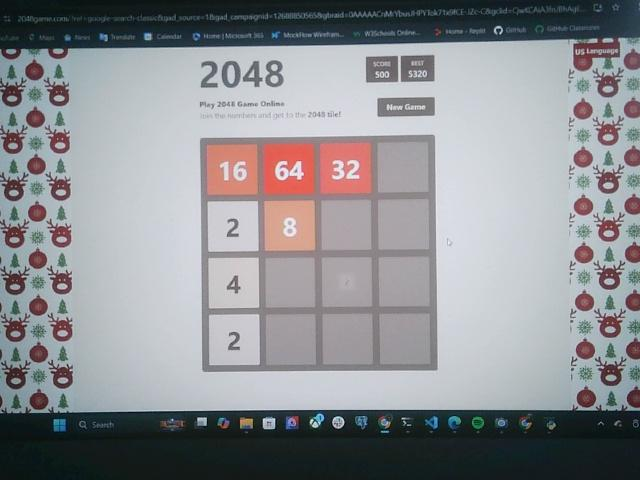board: (202, 137, 434, 371)
tile: (321, 143, 373, 194), (208, 257, 260, 308), (209, 314, 260, 366), (209, 200, 259, 252), (265, 201, 316, 251), (265, 143, 314, 195), (208, 144, 258, 194)
